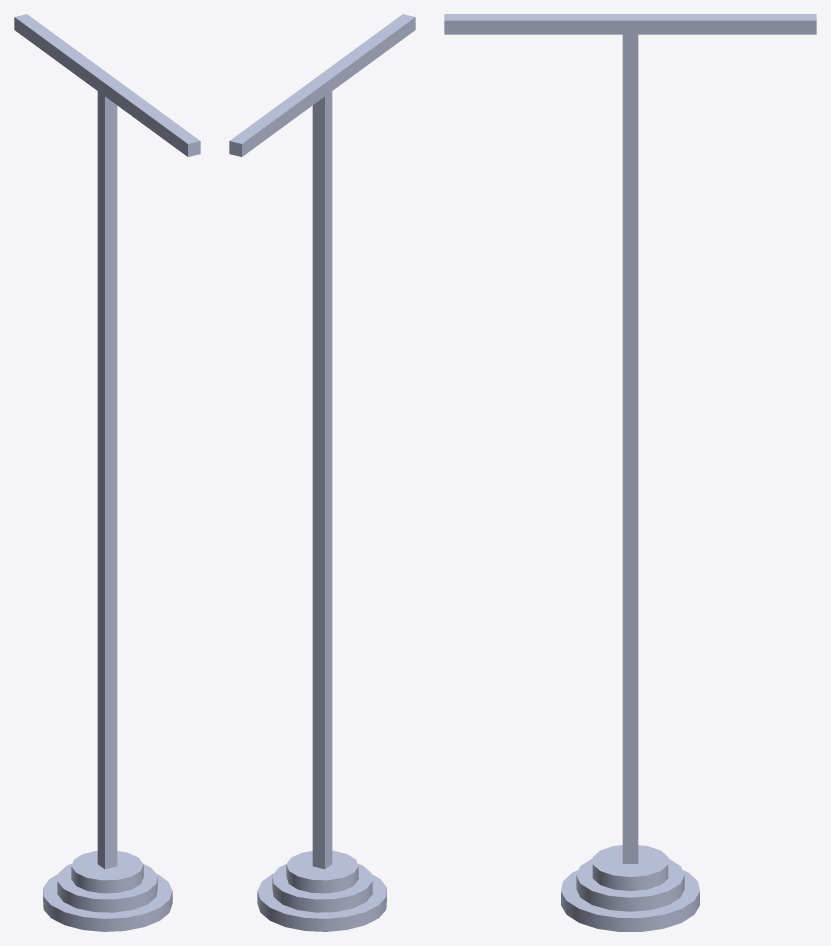
File: Flag_Pole.FBX
3 views of the same model, side by side, from view 1: azimuth 30°, elevation 25°; view 2: azimuth 150°, elevation 25°; view 3: azimuth 270°, elevation 25° (orthographic). The views are drawn at different scales.
Visible parts, largest first — view 1: Mirror1; view 2: Mirror1; view 3: Mirror1.
Boxes of the visible parts, x1,y1,x2,y2 form: Mirror1: (14,14,200,931); Mirror1: (229,14,415,931); Mirror1: (444,14,816,931).
Bounding box in the file's own units: 8.94 × 63 × 24.
